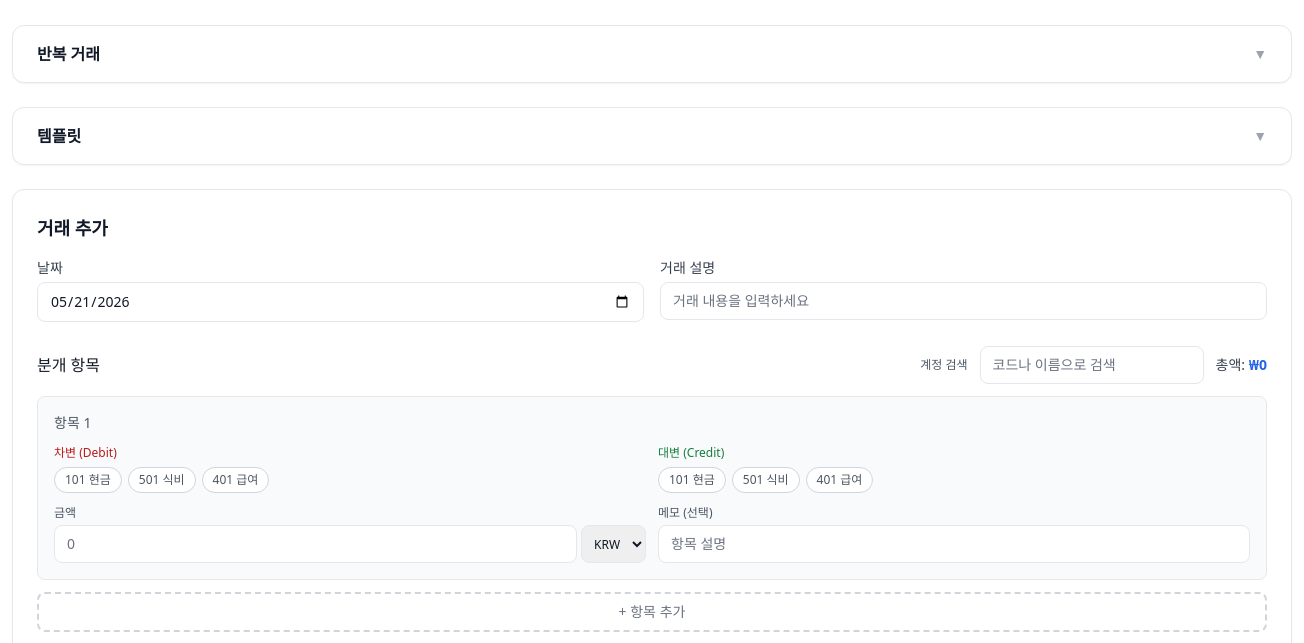
RecurringTransactionsPage (반복 거래 탭) › 다중 항목 거래에 항목 수 배지를 표시한다
Click the button "반복 거래 ▼": [69, 54] box [13,26,1291,82]
(page scrolled)
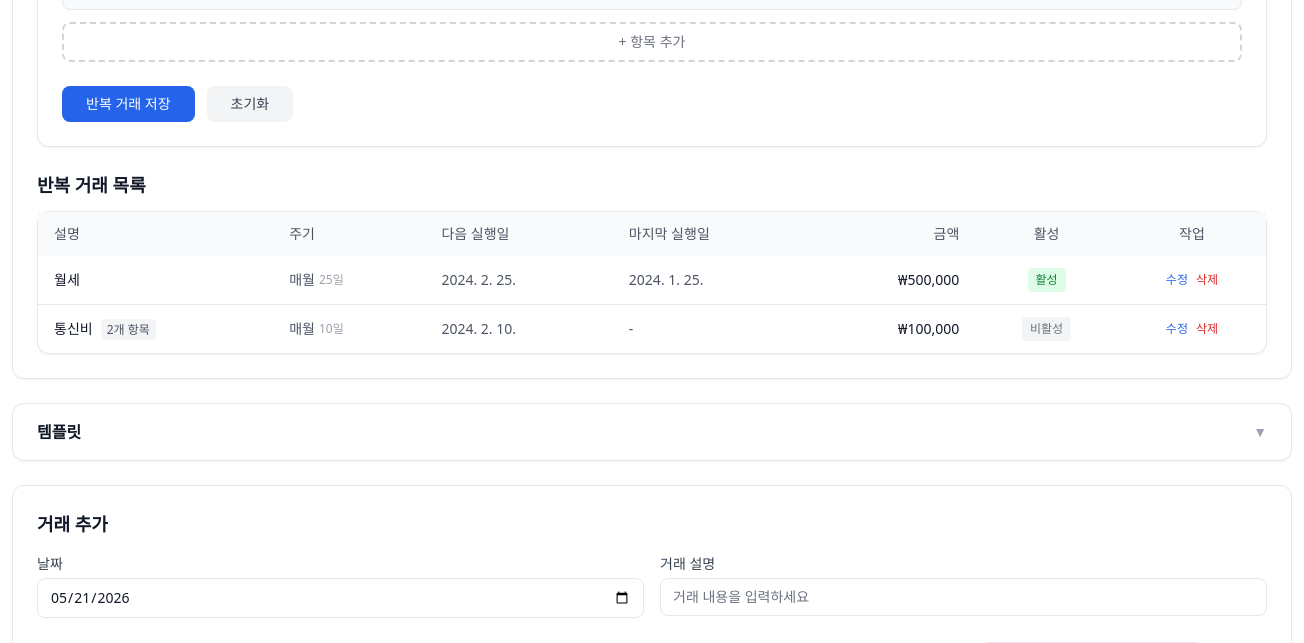
Expected: the text "2개 항목" is shown, [101,319,156,340]
